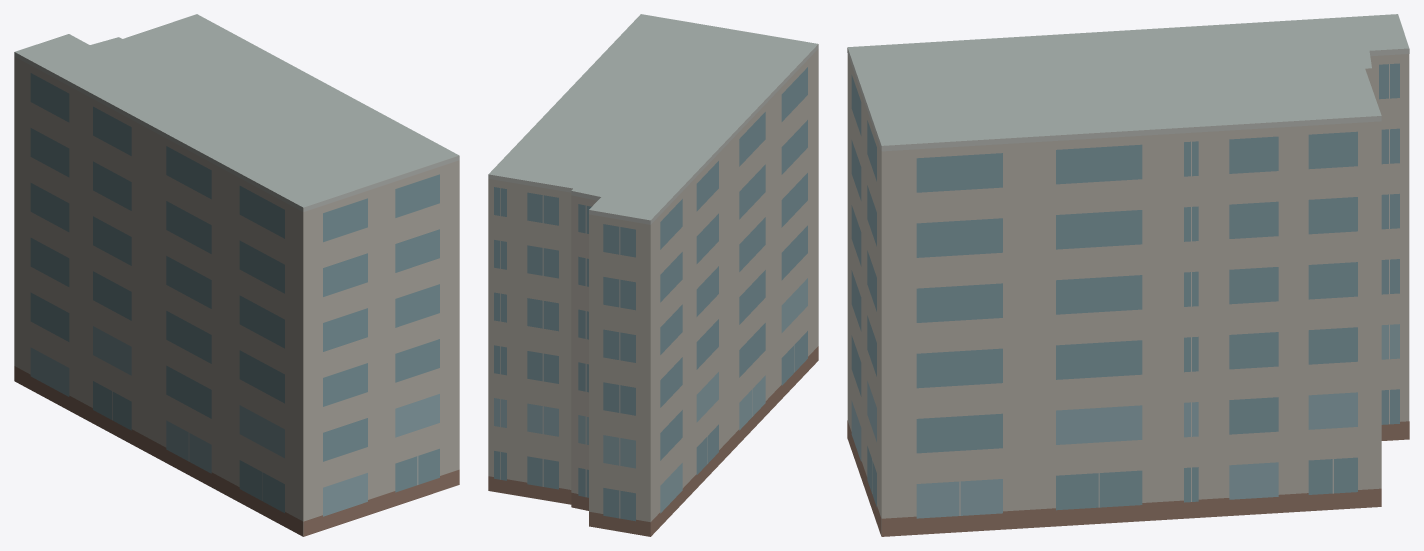
Rendered from survey-upis-32962377.glb.
3 renders of one model, left to right at view 1: azimuth 30°, elevation 25°; view 2: azimuth 150°, elevation 25°; view 3: azimuth 270°, elevation 25°, orthographic. The views are drawn at different scales.
Parts seen in each view (by area): view 1: survey-upis-32962377.tmp; view 2: survey-upis-32962377.tmp; view 3: survey-upis-32962377.tmp.
Part boxes in pixels (x1,y1,x2,y2): survey-upis-32962377.tmp: [14, 14, 459, 536]; survey-upis-32962377.tmp: [488, 14, 818, 536]; survey-upis-32962377.tmp: [847, 14, 1409, 536].
Bounding box in the file's own units: 12.53 × 17.3 × 22.55.
